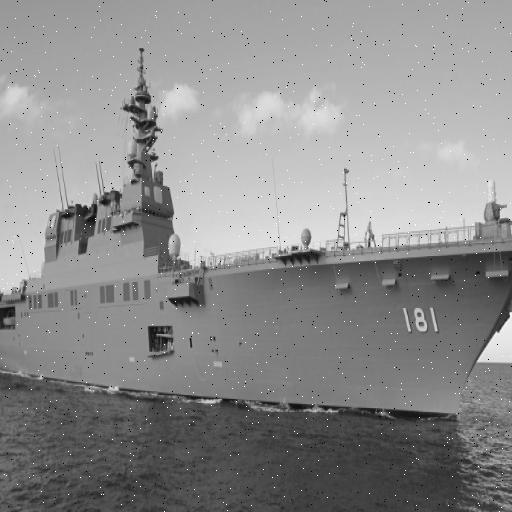Portanaves: (1, 41, 512, 425)
